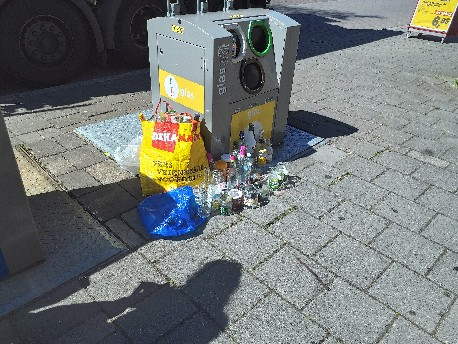Container: (145, 17, 294, 110)
Glas: (227, 156, 261, 194), (210, 157, 243, 192), (198, 164, 215, 216), (218, 185, 258, 206), (235, 137, 272, 155), (263, 165, 292, 185), (210, 165, 220, 208)
Plastic: (134, 127, 203, 200), (136, 181, 199, 228)
